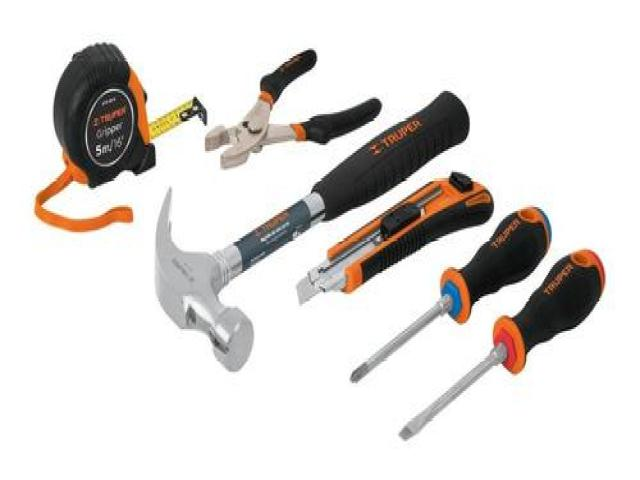Hammer: (156, 93, 469, 370)
Pliers: (205, 49, 381, 167)
Screwdriver: (400, 249, 604, 438), (351, 208, 549, 382)
Tape measure: (35, 43, 206, 232)
Utility knife: (296, 172, 494, 303)
